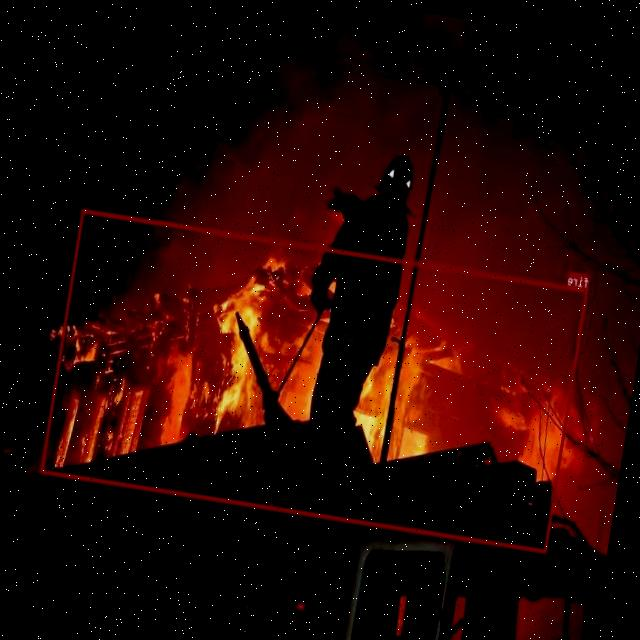fire: (41, 208, 589, 553)
